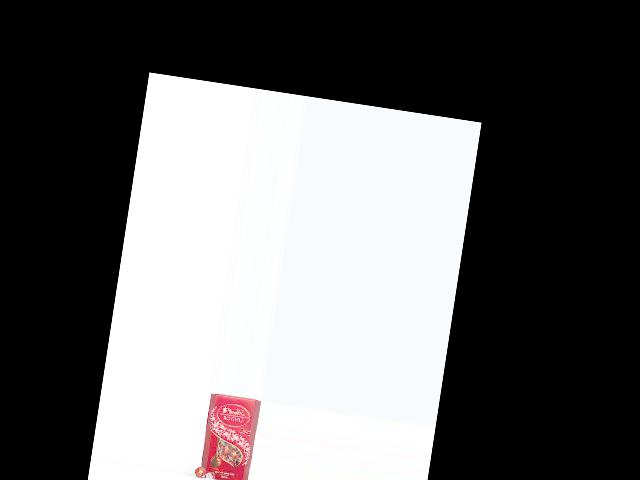chocolate: (193, 392, 260, 480)
